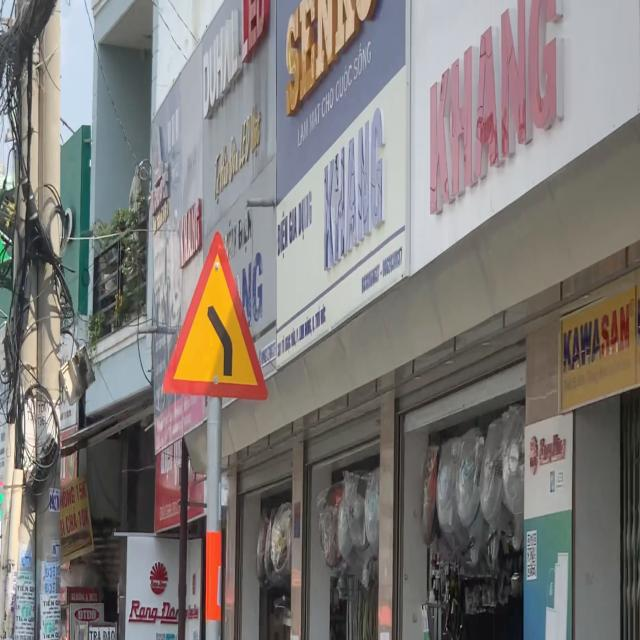Nguy hiem: (161, 228, 269, 402)
